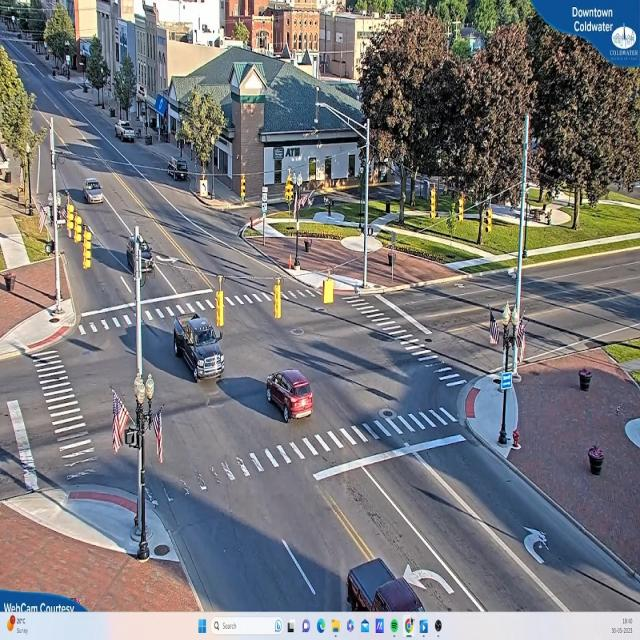car: (349, 557, 429, 612), (170, 309, 223, 385), (268, 371, 317, 423), (126, 234, 154, 276), (84, 179, 105, 205), (116, 123, 136, 143)
